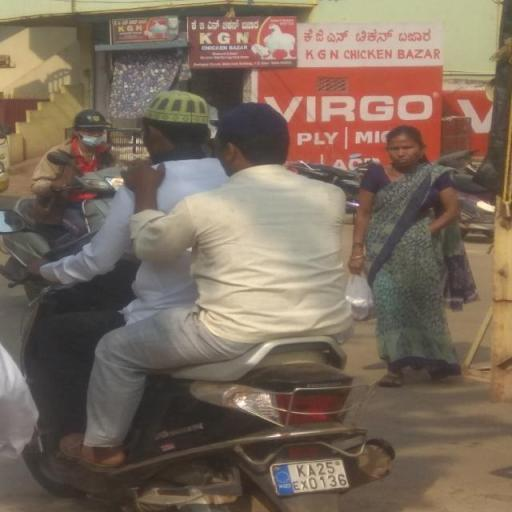bike: (22, 76, 400, 512)
numberplate: (274, 454, 352, 498)
withouthelmet: (148, 91, 210, 159), (222, 104, 284, 169)
